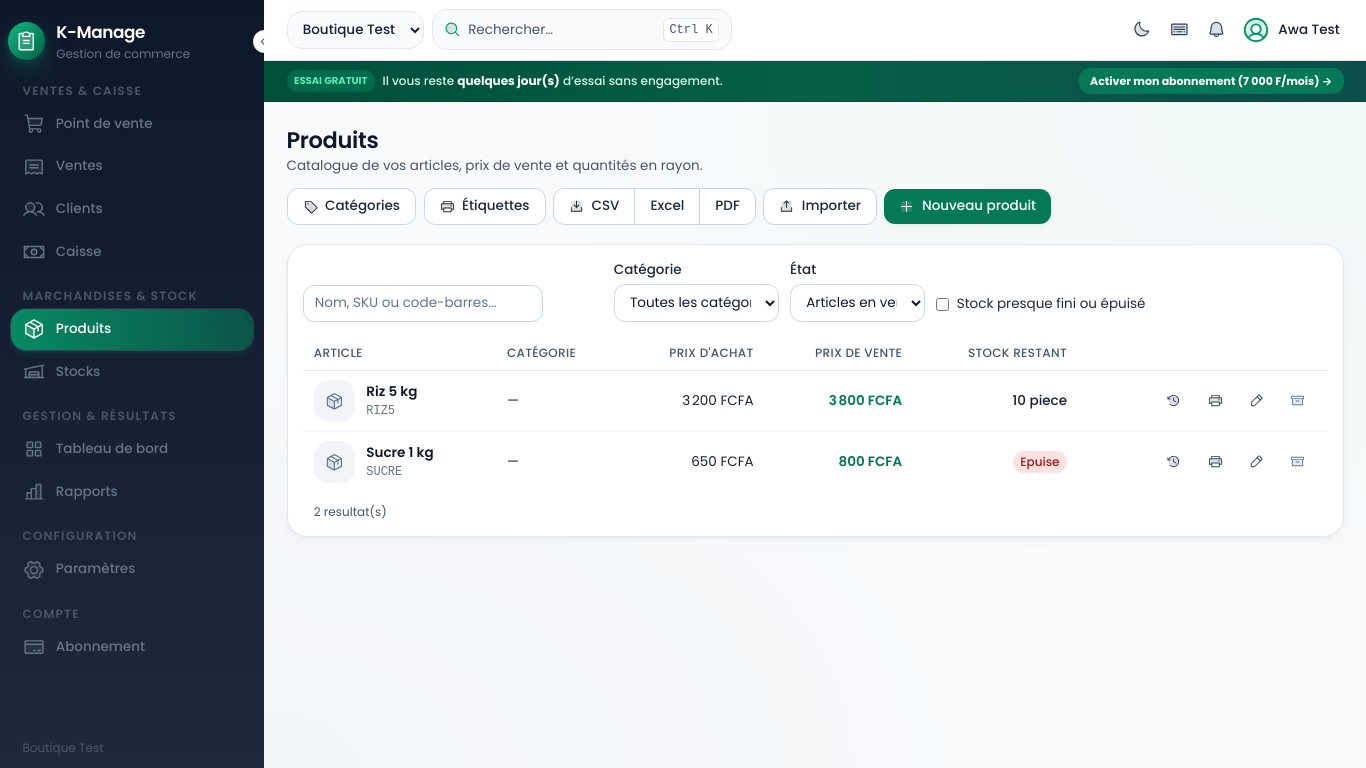
it: produits › liste, recherche et valide le formulaire de creation
Expected: the text "Riz 5 kg" is shown, [366, 382, 417, 402]
Expected: the text "Epuise" is shown, [1013, 451, 1067, 473]
Click the button "Nouveau produit": (968, 207) [884, 189, 1051, 224]
(page scrolled)
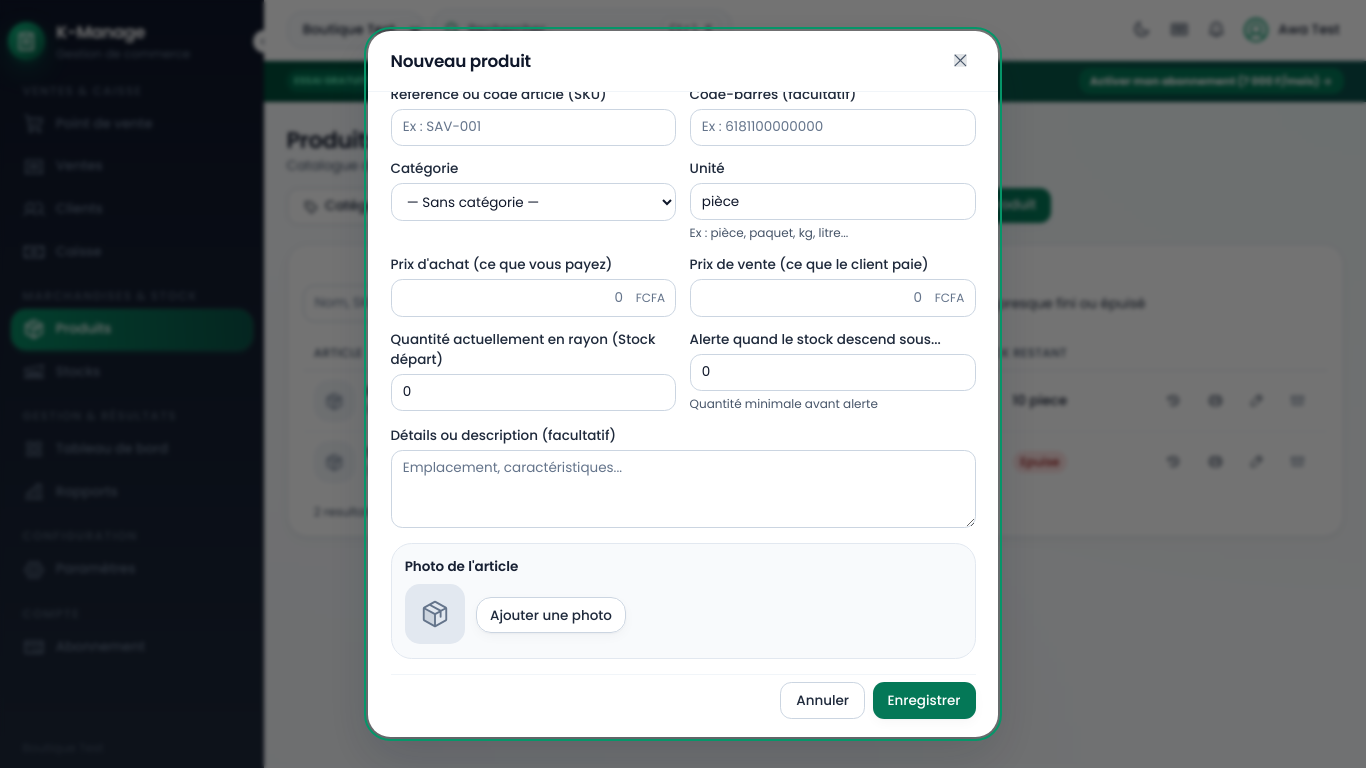
Click the button "Enregistrer": (924, 701) [872, 682, 976, 719]
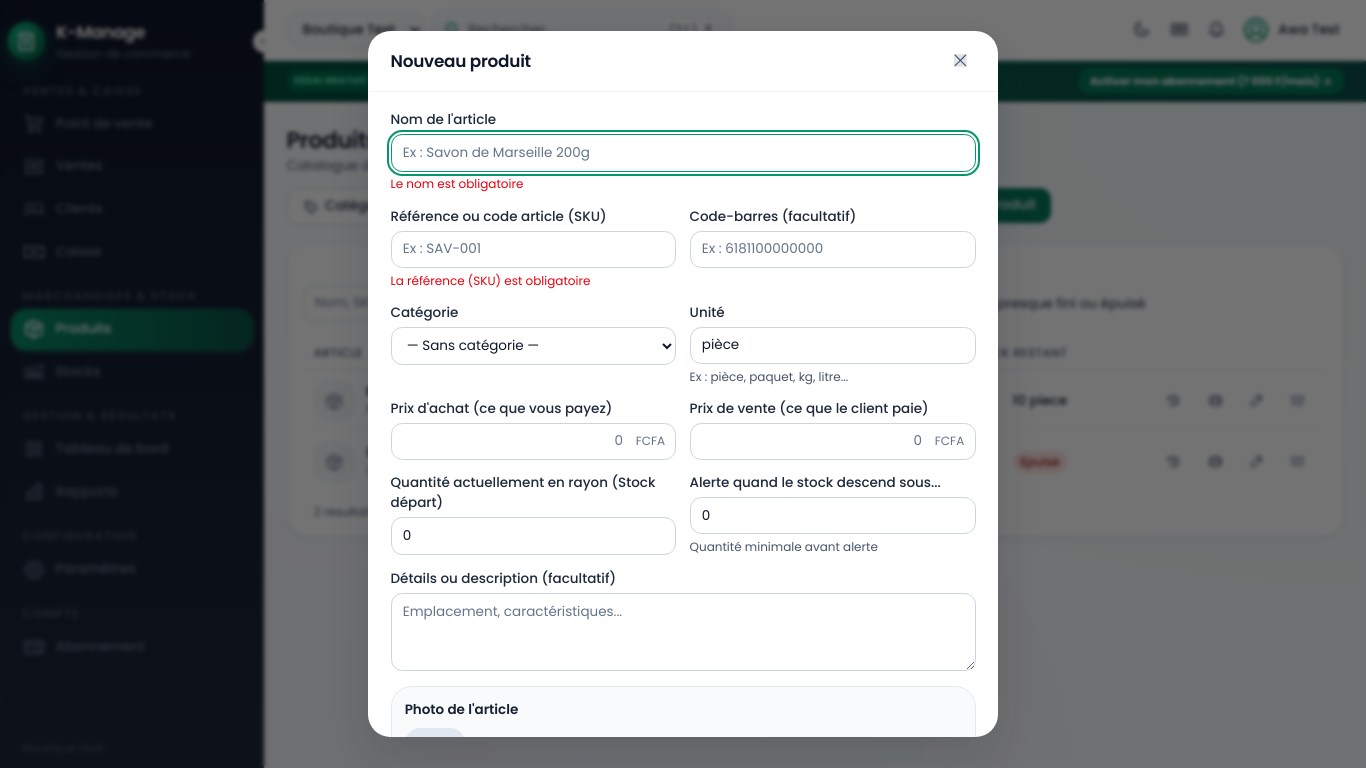
Result: the text "Le nom est obligatoire" is shown at [390, 176, 523, 192]
